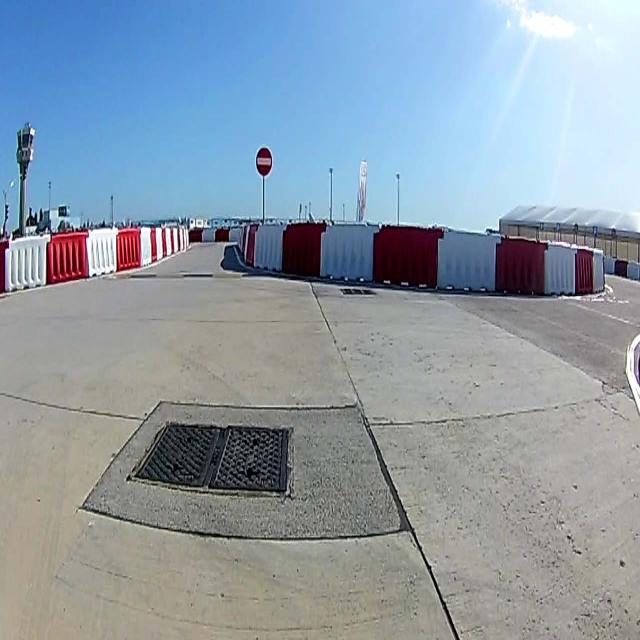girisyok: (256, 148, 272, 176)
